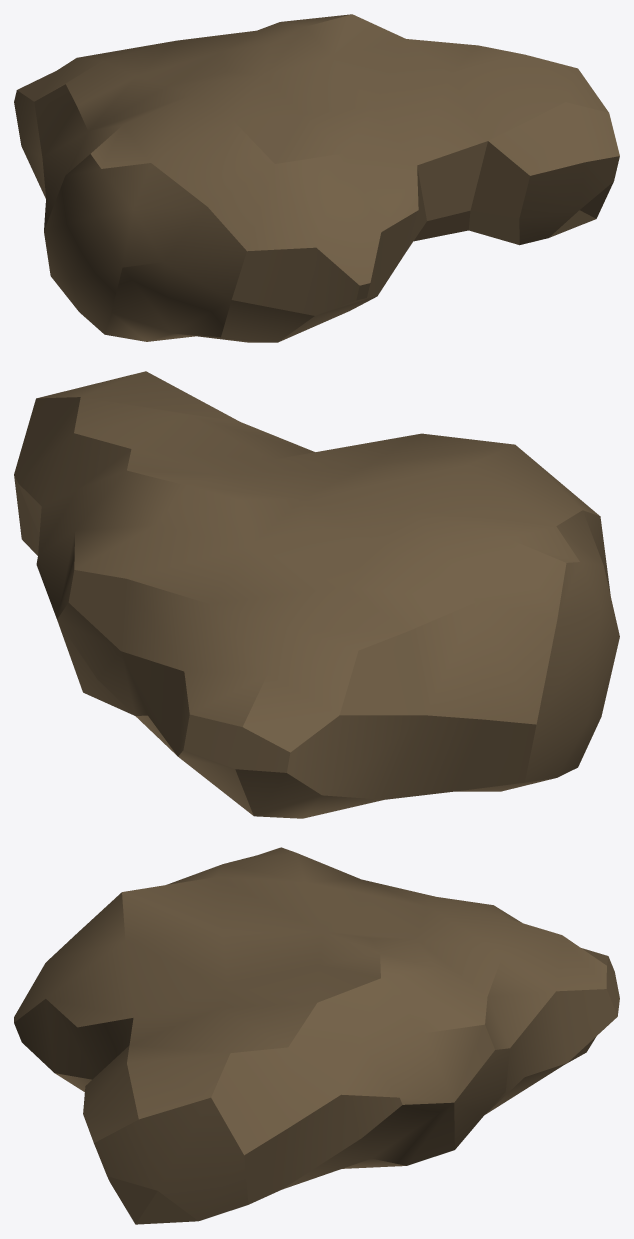
File: Moss 1 DQ.fbx
The picture shows the model from 3 angles, top to bottom: view 1: azimuth 30°, elevation 25°; view 2: azimuth 150°, elevation 25°; view 3: azimuth 270°, elevation 25°; orthographic projection. The views are drawn at different scales.
Visible parts, largest first — view 1: Mball.001; view 2: Mball.001; view 3: Mball.001.
Boxes of the visible parts, left/top/right/bottom form: Mball.001: left=14, top=14, right=619, bottom=342; Mball.001: left=14, top=371, right=619, bottom=818; Mball.001: left=14, top=847, right=619, bottom=1224.
Size of the model in its own units: 88.57 by 39.7 by 87.82.
